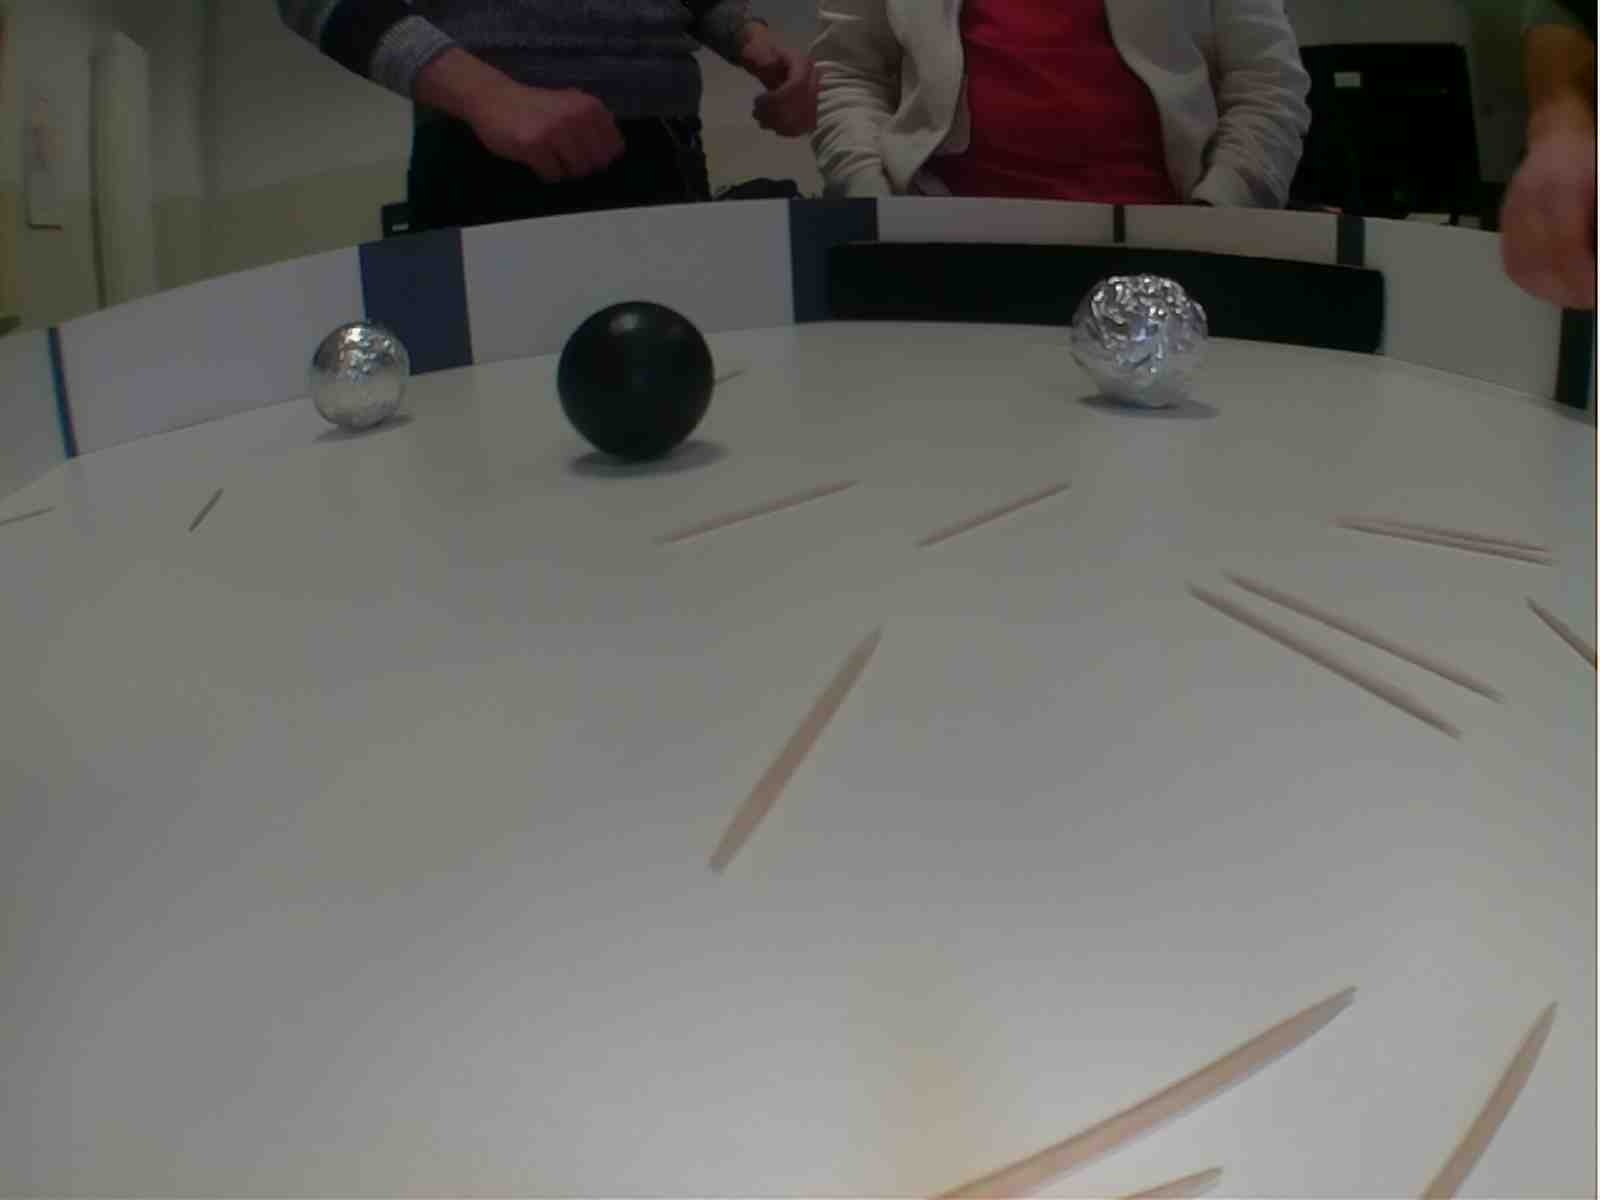bianca: (1077, 268, 1209, 413), (307, 316, 417, 435)
nera: (551, 292, 714, 459)
